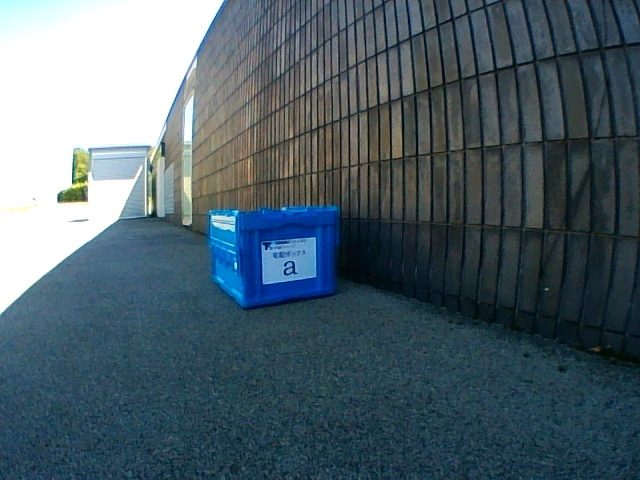blue_box: (208, 206, 338, 307)
tag_a: (268, 245, 308, 277)
